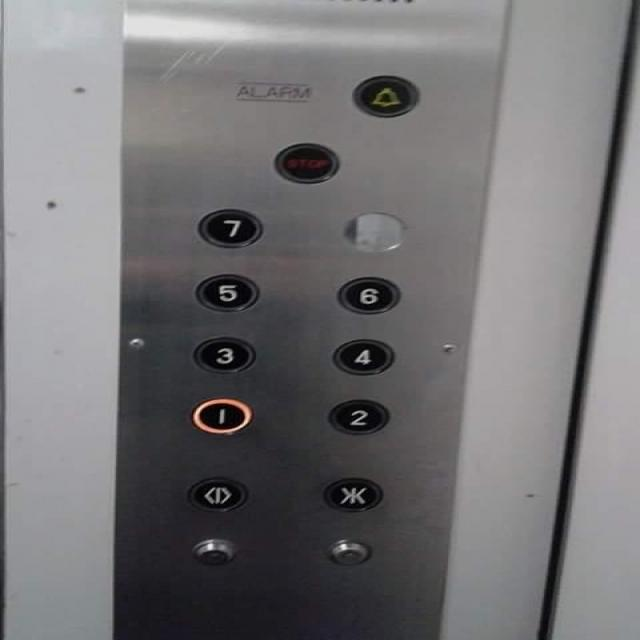1: (189, 397, 251, 434)
2: (325, 397, 391, 435)
3: (189, 334, 255, 374)
4: (329, 337, 396, 377)
5: (193, 272, 260, 313)
6: (334, 274, 402, 314)
7: (193, 206, 264, 248)
alarm: (351, 73, 420, 118)
close: (320, 476, 383, 514)
indicator: (189, 538, 239, 568), (323, 538, 372, 568)
open: (187, 476, 248, 513)
stop: (271, 139, 341, 184)
